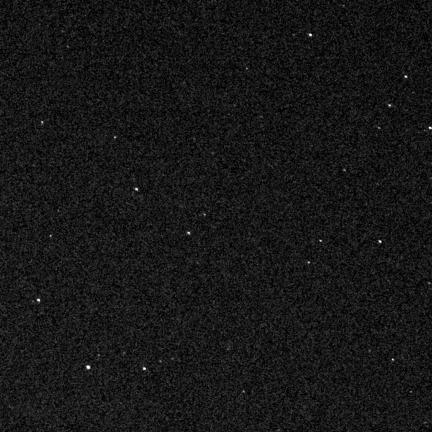blob: (388, 104, 392, 108), (135, 188, 139, 192), (187, 232, 191, 236), (378, 241, 382, 244), (143, 368, 147, 371), (87, 365, 90, 369), (308, 34, 312, 37), (159, 360, 162, 364), (204, 214, 207, 217), (392, 359, 395, 362), (343, 169, 346, 172), (37, 299, 40, 302), (41, 122, 44, 125), (378, 127, 381, 130), (114, 136, 117, 139), (405, 76, 408, 79), (429, 127, 432, 130), (308, 262, 311, 265), (320, 240, 323, 243)
